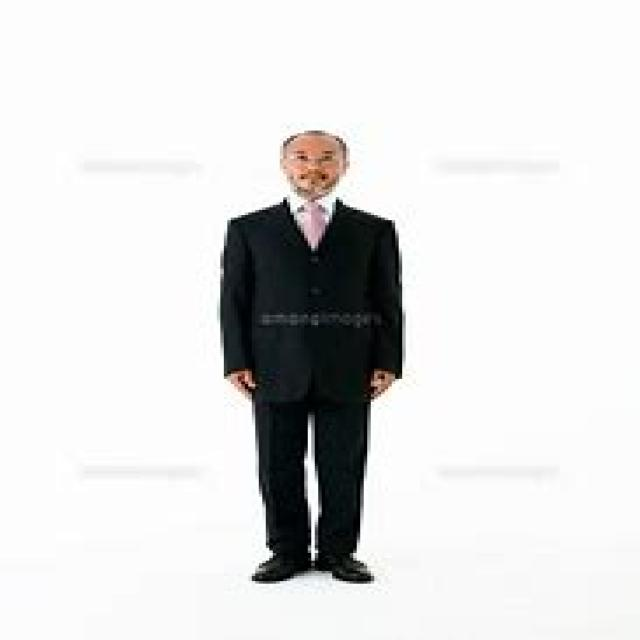stand: (228, 118, 397, 578)
